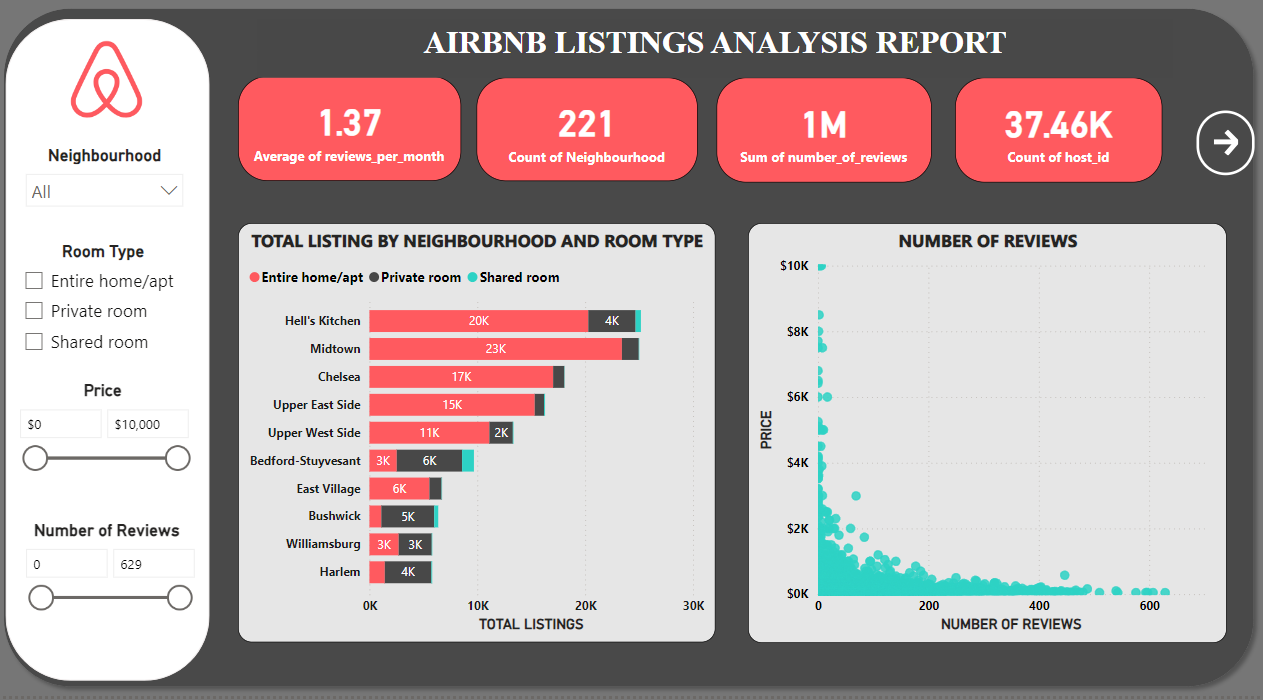

The page's visual inventory and layout, read from the dashboard file:
{"tool":"powerbi","page":{"name":"Page 1","canvas":[1280,720],"ordinal":0},"visuals":[{"type":"shape","box":[0,16.7,1279.5,702.6],"z":0},{"type":"shape","box":[10,36,206,668],"z":1000,"group":"g1"},{"type":"card","fields":{"Values":["Avg(AB_NYC_2019.reviews_per_month)"]},"box":[245.3,93.8,225,106.2],"z":1000},{"type":"image","box":[53.7,52.6,116.8,88],"z":2000,"group":"g1"},{"type":"card","fields":{"Values":["Count(AB_NYC_2019.neighbourhood)"]},"box":[485.9,95.3,223.4,104.7],"z":2000},{"type":"card","fields":{"Values":["Sum(AB_NYC_2019.number_of_reviews)"]},"box":[728.1,95.3,217.2,106.2],"z":3000},{"type":"slicer","title":"Neighbourhood","fields":{"Values":["AB_NYC_2019.neighbourhood_group"]},"box":[21.3,163.3,178.8,85],"z":3000,"group":"g1"},{"type":"slicer","title":"Room Type","fields":{"Values":["AB_NYC_2019.room_type"]},"box":[18,260,182,121.6],"z":4000,"group":"g1"},{"type":"card","fields":{"Values":["Count(AB_NYC_2019.host_id)"]},"box":[968.8,95.3,209.4,106.2],"z":5000},{"type":"slicer","title":"Price","fields":{"Values":["AB_NYC_2019.price"]},"box":[11.6,400.7,193.3,101.1],"z":5000,"group":"g1"},{"type":"barChart","title":"TOTAL LISTING BY NEIGHBOURHOOD AND ROOM TYPE","fields":{"Y":["Sum(AB_NYC_2019.calculated_host_listings_count)"],"Series":["AB_NYC_2019.room_type"],"Category":["AB_NYC_2019.neighbourhood"]},"box":[245,241.7,481.7,423.3],"z":6000},{"type":"slicer","title":"Number of Reviews","fields":{"Values":["AB_NYC_2019.number_of_reviews"]},"box":[17.1,542,189.4,101.9],"z":6000,"group":"g1"},{"type":"scatterChart","title":"NUMBER OF REVIEWS","fields":{"Y":["AB_NYC_2019.price"],"X":["AB_NYC_2019.number_of_reviews"]},"box":[760.1,242.3,483,424],"z":7000},{"type":"textbox","box":[265.6,35.9,923.4,59.4],"z":8000},{"type":"actionButton","box":[1199.3,131.7,59.1,65.1],"z":9000},{"type":"group","id":"g1","title":"Group 1","box":[10,36,206,668],"z":10000}]}

Visuals, with their boxes in screenshot pixels (x1, y1, x2, y2), scaled from the page's 1280x720 canvas onto the 1263x700 screenshot:
shape: bbox=(0, 16, 1262, 699)
shape: bbox=(10, 35, 213, 684)
card - Avg(AB_NYC_2019.reviews_per_month): bbox=(242, 91, 464, 194)
image: bbox=(53, 51, 168, 137)
card - Count(AB_NYC_2019.neighbourhood): bbox=(479, 93, 700, 194)
card - Sum(AB_NYC_2019.number_of_reviews): bbox=(718, 93, 933, 196)
"Neighbourhood" slicer: bbox=(21, 159, 197, 241)
"Room Type" slicer: bbox=(18, 253, 197, 371)
card - Count(AB_NYC_2019.host_id): bbox=(956, 93, 1163, 196)
"Price" slicer: bbox=(11, 390, 202, 488)
"TOTAL LISTING BY NEIGHBOURHOOD AND ROOM TYPE" barChart: bbox=(242, 235, 717, 647)
"Number of Reviews" slicer: bbox=(17, 527, 204, 626)
"NUMBER OF REVIEWS" scatterChart: bbox=(750, 236, 1227, 648)
textbox: bbox=(262, 35, 1173, 93)
actionButton: bbox=(1183, 128, 1242, 191)
"Group 1" group: bbox=(10, 35, 213, 684)
